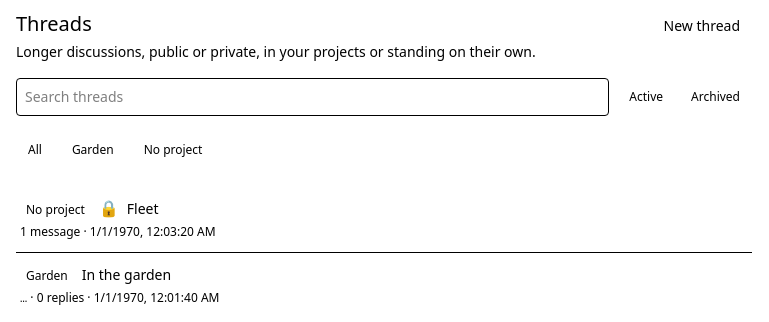
Test: ThreadsView list › the project is a filter chip, and filters both kinds of thread
Click the button "Garden". click: (93, 150)
box: x1=60 y1=132 x2=126 y2=168
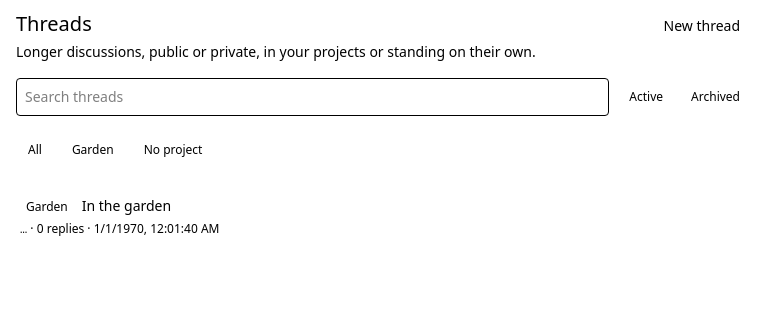
Expected: the button "Garden In the garden … · 0 replies · 1/1/1970, 12:01:40 AM" is shown, x1=16 y1=184 x2=752 y2=250
Click the button "No project". click: (173, 150)
box: x1=132 y1=132 x2=214 y2=168
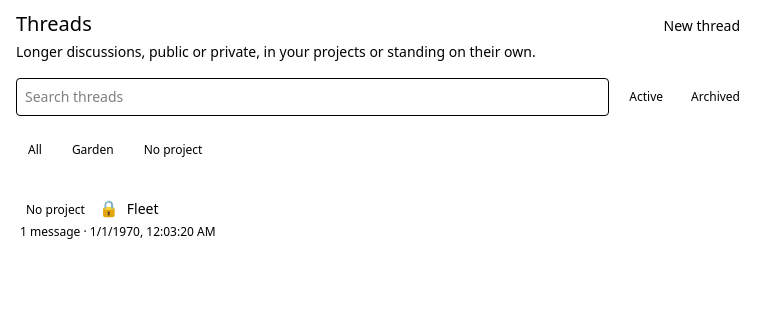
Expected: the button "No project 🔒 Fleet 1 message · 1/1/1970, 12:03:20 AM" is shown, x1=16 y1=184 x2=752 y2=252
